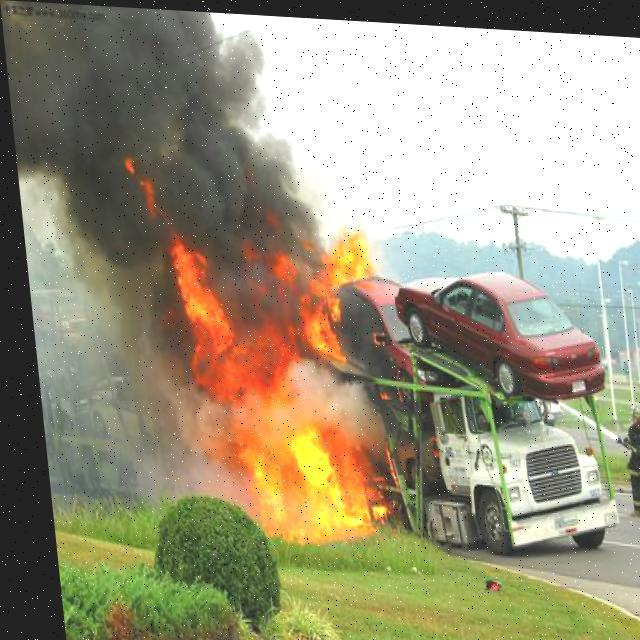Fire: (146, 194, 387, 538)
